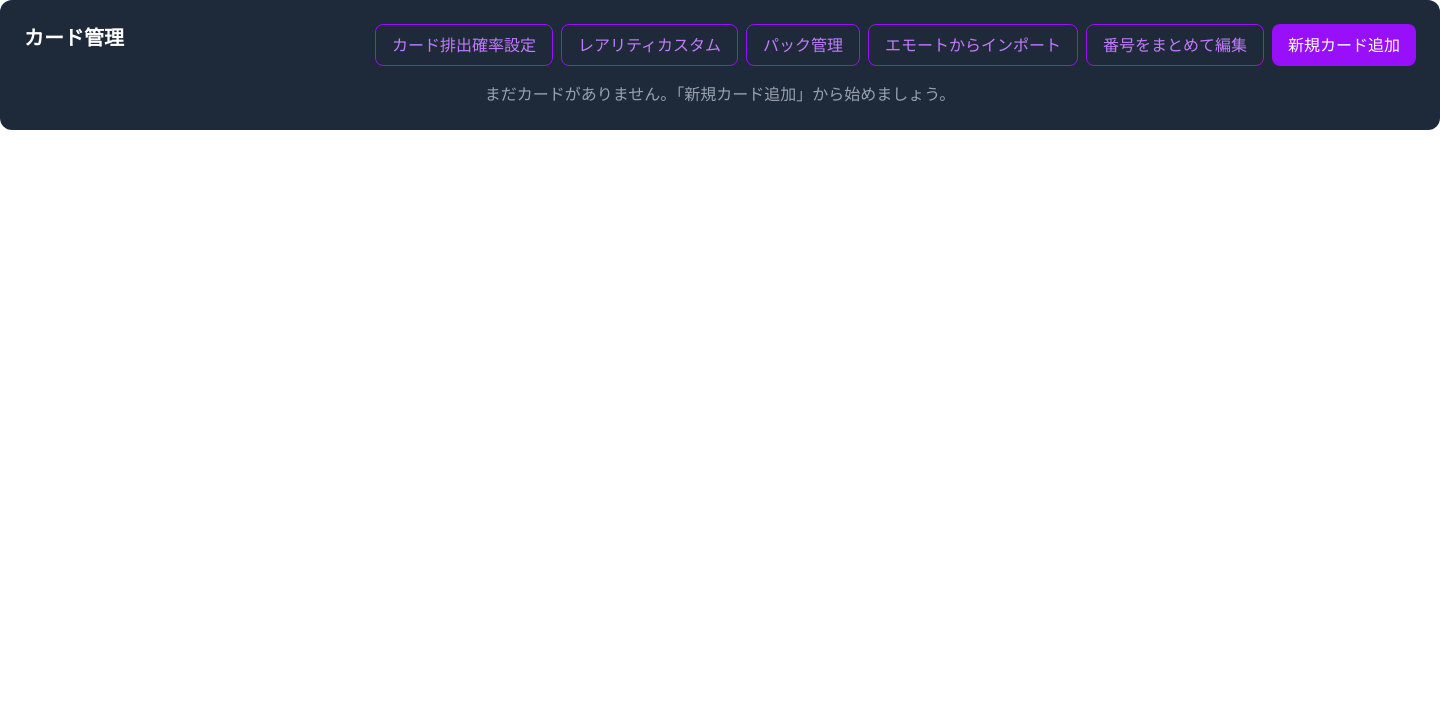
CardManager pack select visibility (Issue #567) › shows the pack select when packs are registered (create mode)
Click the button "新規カード追加". click: (1344, 45)
box: [1272,24,1416,66]
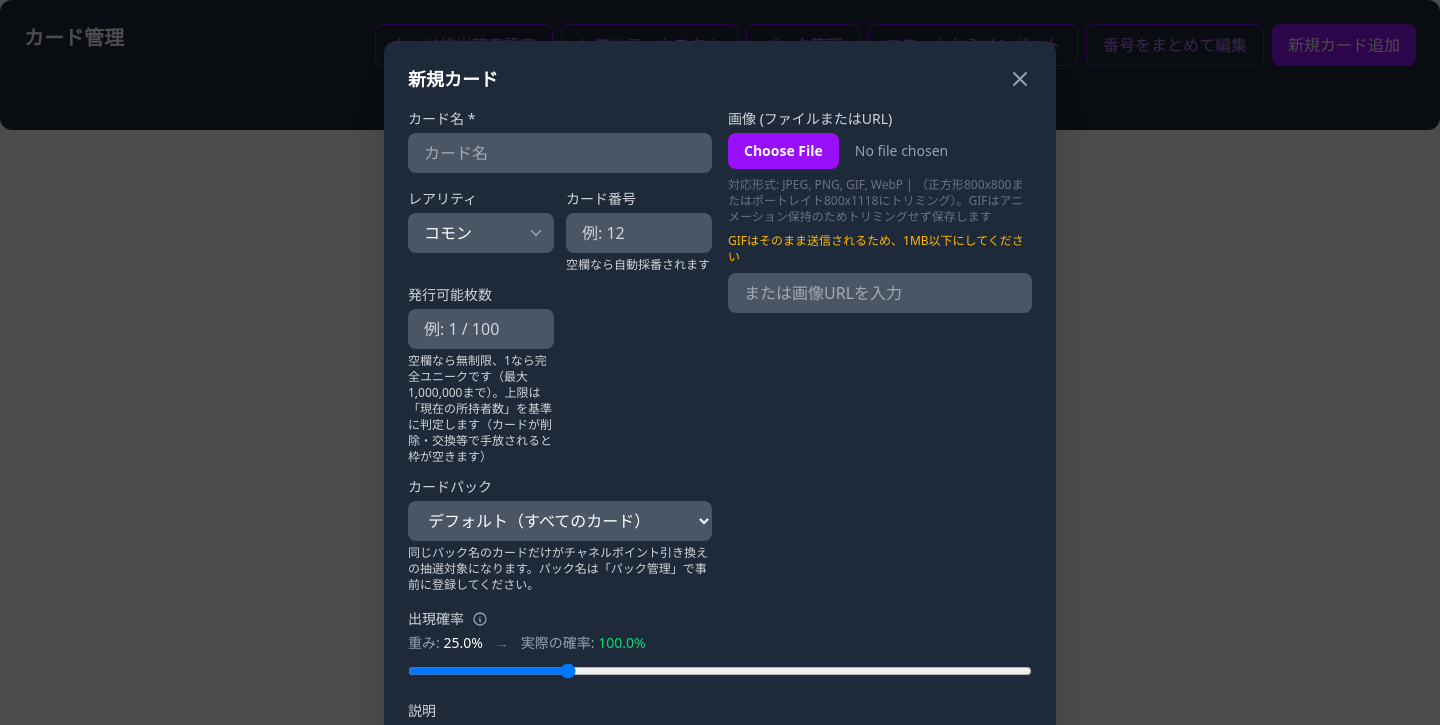
Check: the text "カードパック" is shown, box [408,476,492,496]
